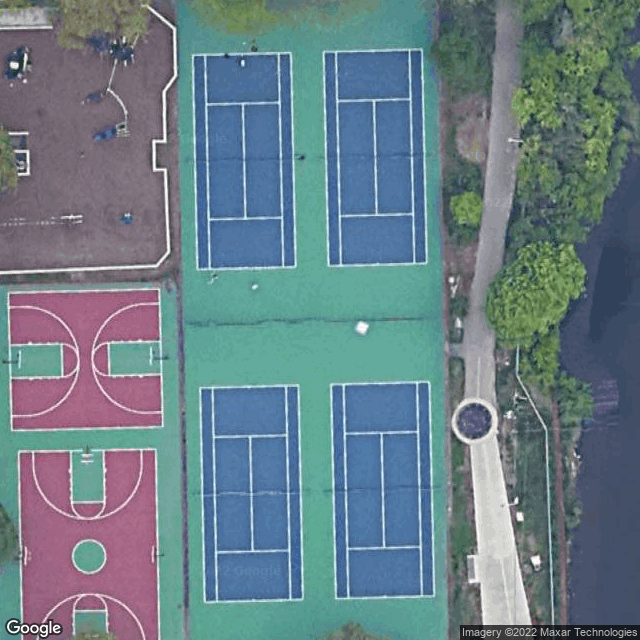Court: (196, 381, 306, 604), (327, 380, 437, 601), (191, 50, 298, 272), (319, 47, 427, 266)
